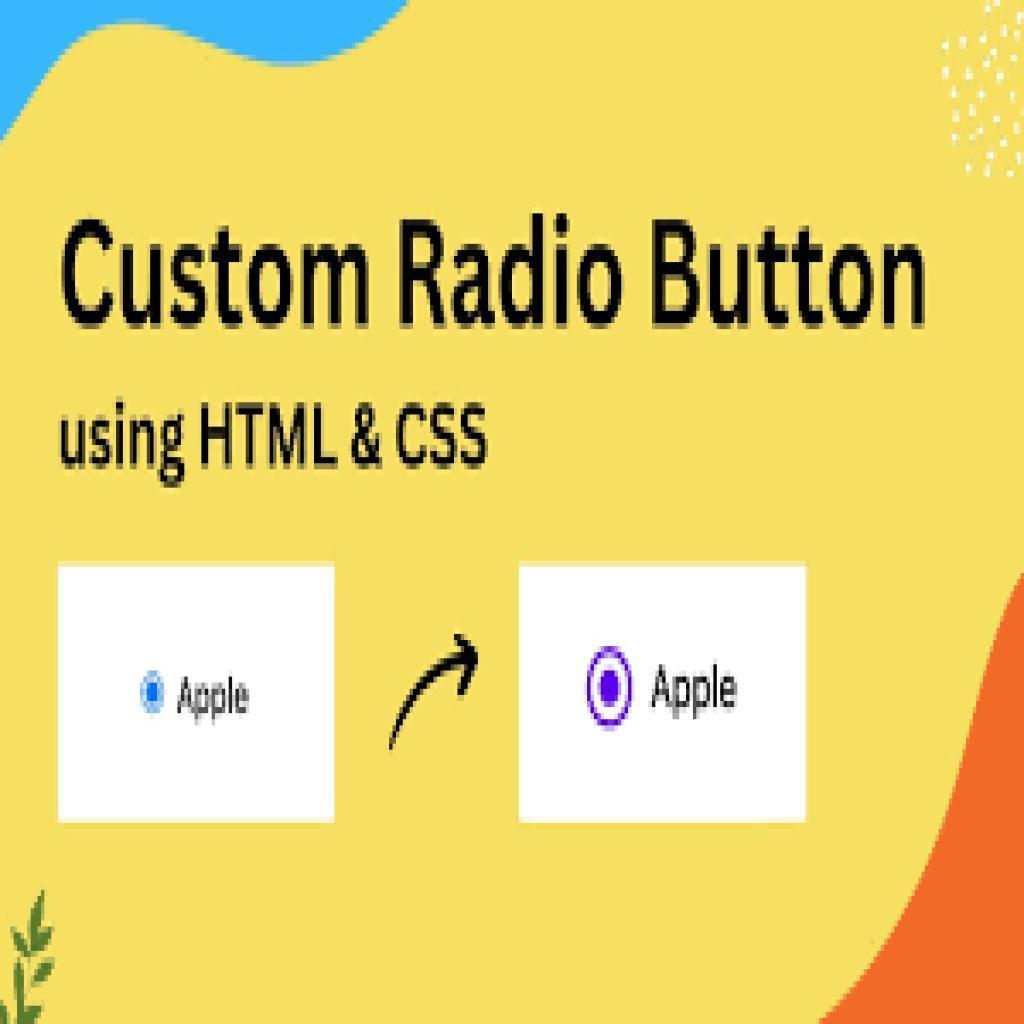radio: (585, 639, 635, 730), (135, 663, 169, 723)
